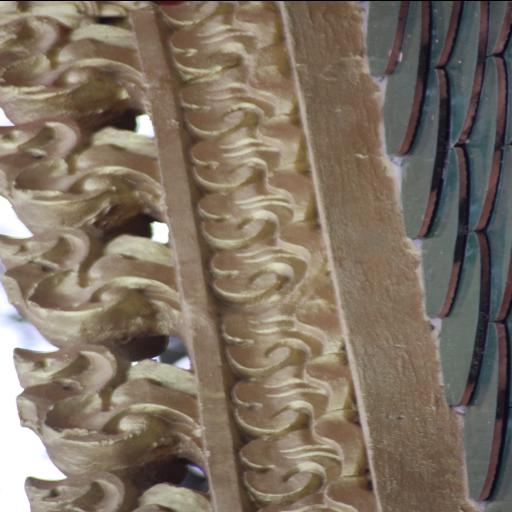la: (206, 297, 354, 369), (231, 432, 366, 508), (170, 66, 306, 133), (161, 0, 293, 68), (216, 368, 362, 428), (198, 240, 332, 298), (188, 188, 328, 240), (181, 134, 313, 186)
lua: (0, 225, 193, 352), (10, 350, 208, 470), (0, 120, 169, 230), (0, 17, 141, 123), (9, 467, 223, 512), (0, 0, 151, 26)
